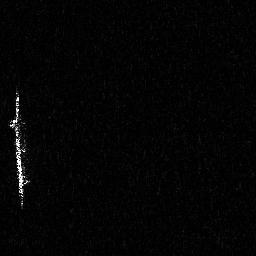ship: (5, 86, 33, 213)
